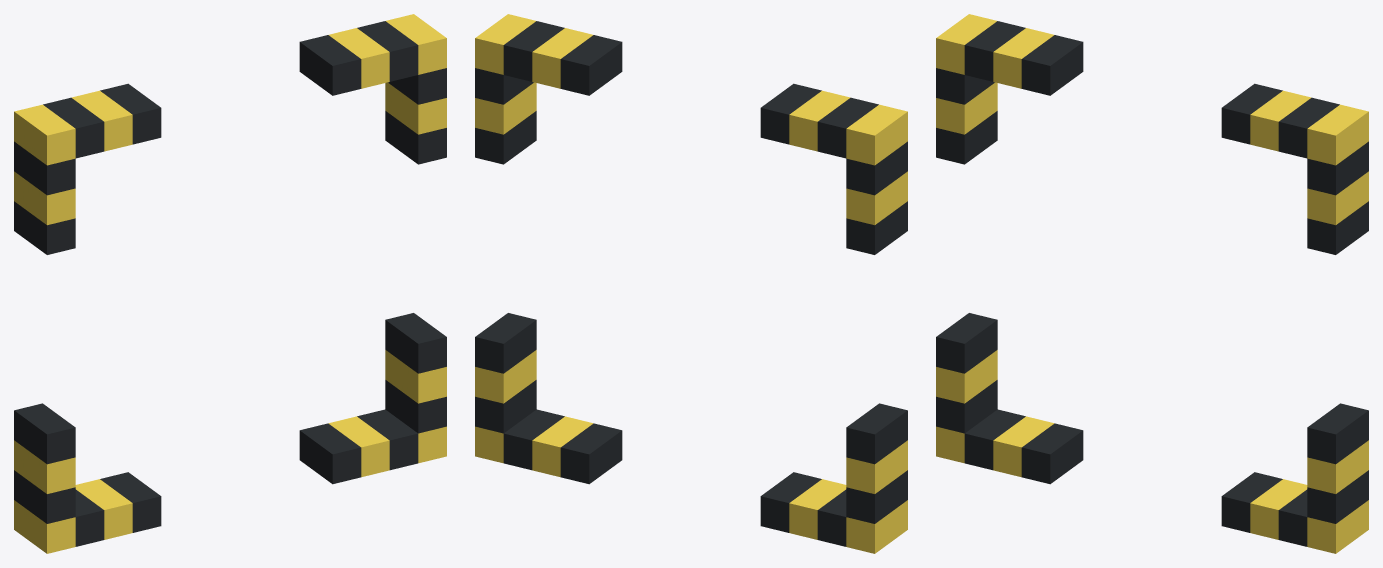
File: ParkingSlotYellow.fbx
3 renders of one model, left to right at view 1: azimuth 30°, elevation 25°; view 2: azimuth 150°, elevation 25°; view 3: azimuth 330°, elevation 25°, orthographic.
Visible parts, largest first — view 1: generated; view 2: generated; view 3: generated.
Part boxes in pixels (bbox=[...]): generated: bbox=[14, 14, 446, 553]; generated: bbox=[475, 14, 907, 553]; generated: bbox=[936, 14, 1368, 553].
Bounding box in the file's own units: 140 × 140 × 20.
